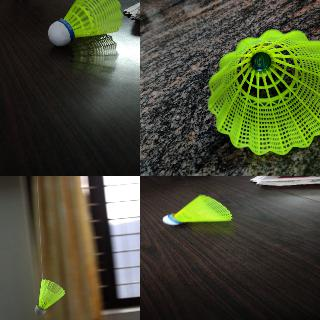shuttlecock: (207, 29, 319, 156), (47, 0, 122, 46), (162, 195, 232, 225), (34, 279, 66, 315)
